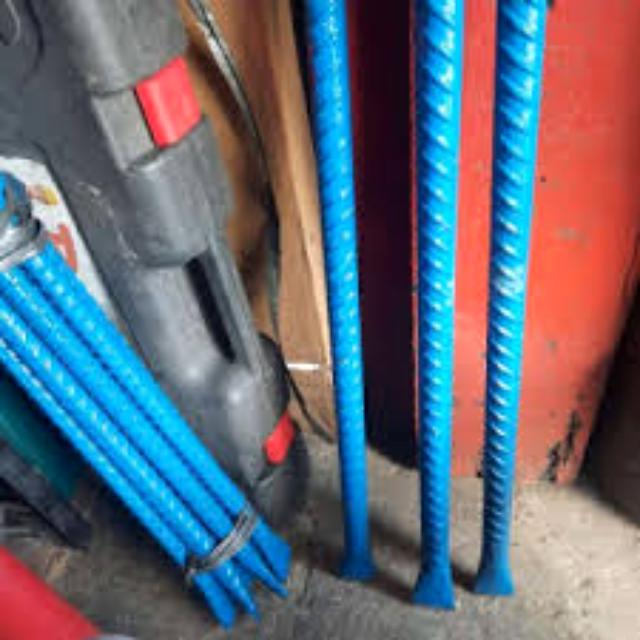crow bar: (277, 1, 405, 592), (460, 0, 570, 606), (398, 0, 469, 618)
